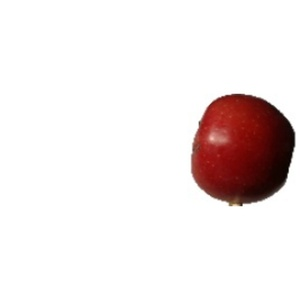maçã braeburn: (188, 93, 297, 202)
